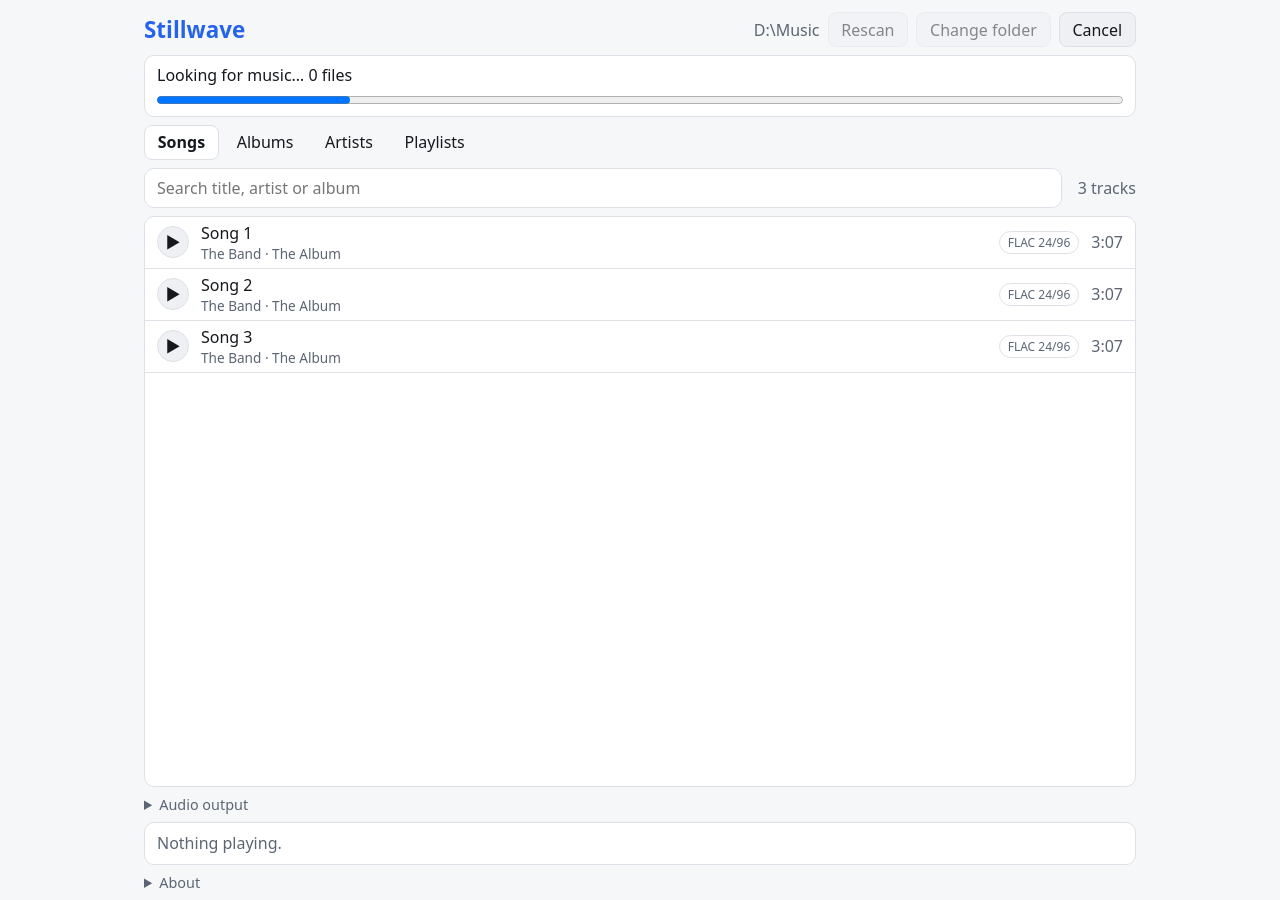
Scenario: library › searches as you type
Expected: the text "Song 1" is shown, left=201, top=222, right=252, bottom=244
Type "abba" into the search field named "search your library" at (603, 188), box left=144, top=168, right=1062, bottom=208
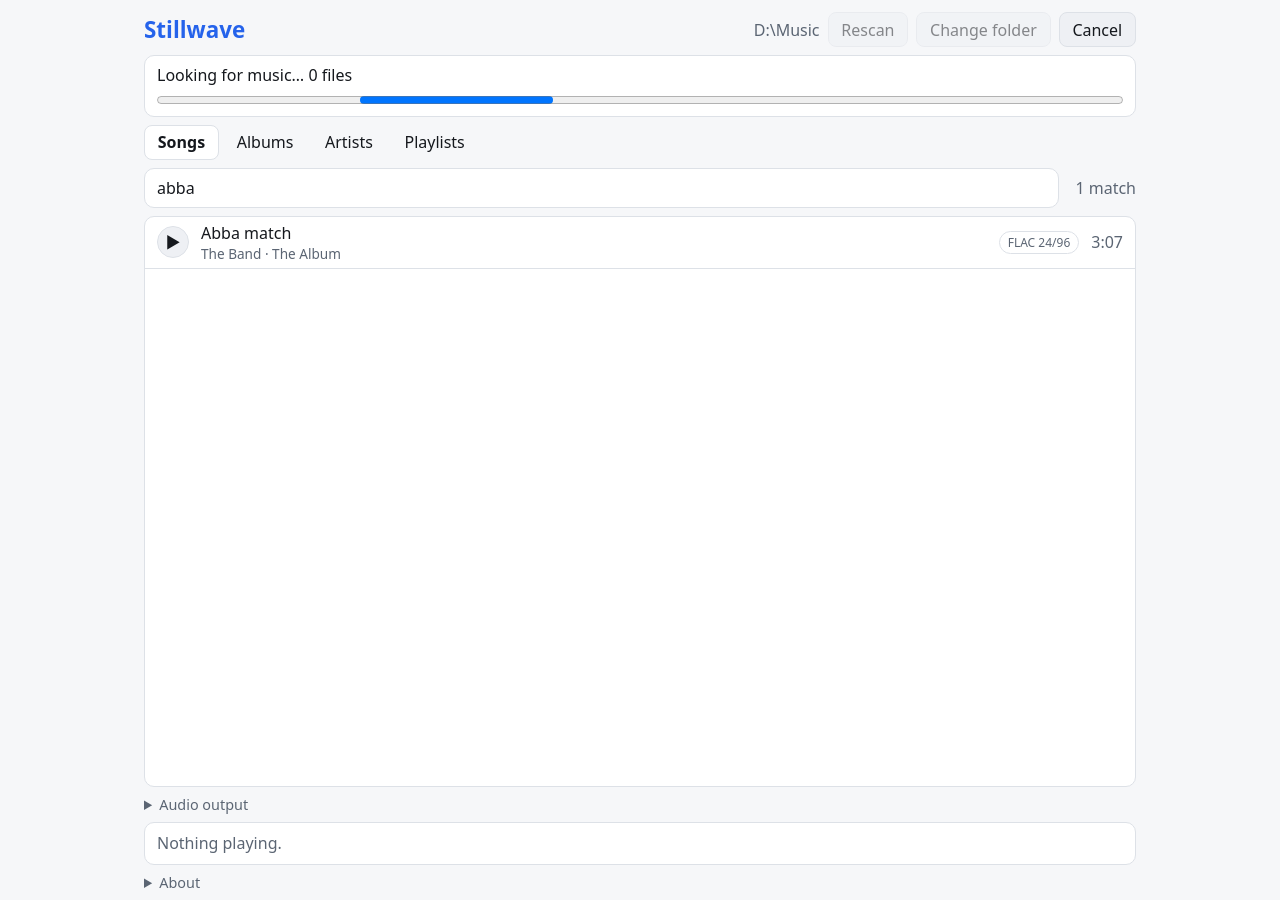
Now the text "Abba match" is shown, box left=201, top=222, right=291, bottom=244
Now the text "Song 1" is gone
Now the text "1 match" is shown, box left=1075, top=177, right=1136, bottom=199
